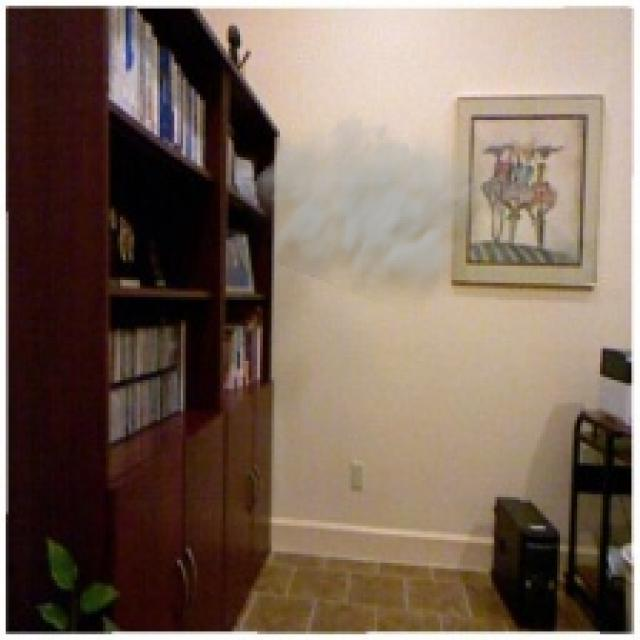smoke: (237, 109, 497, 317)
